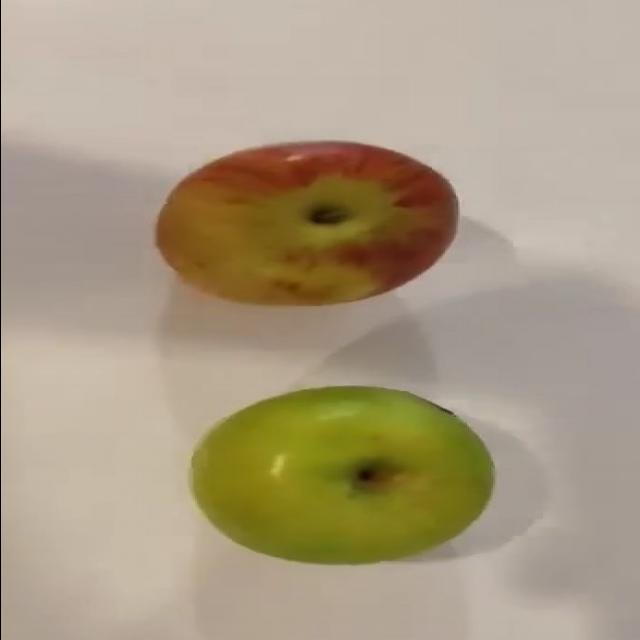Apple: (188, 384, 495, 565), (154, 138, 459, 306)
